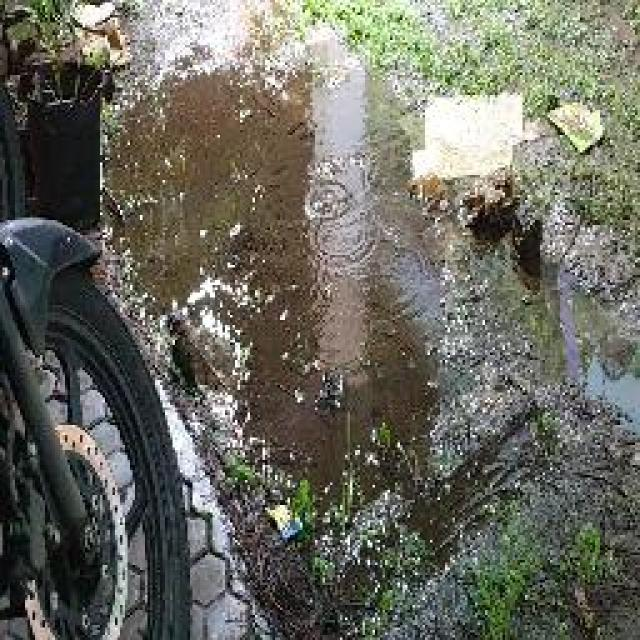puddle: (101, 49, 640, 485)
